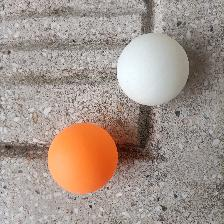WhiteBall: (116, 32, 189, 106)
YellowBall: (48, 121, 118, 193)
